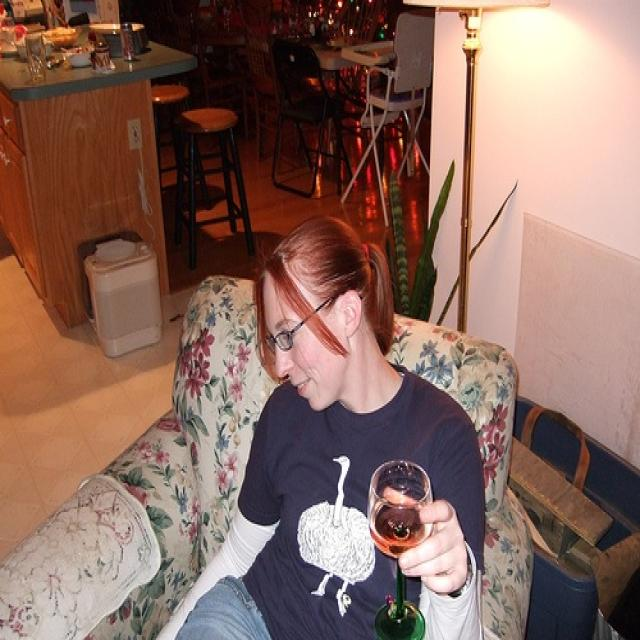chair: (1, 276, 535, 638), (339, 14, 430, 222), (272, 41, 348, 191), (190, 7, 250, 150), (241, 0, 284, 169)
pottedplant: (388, 160, 517, 322)
